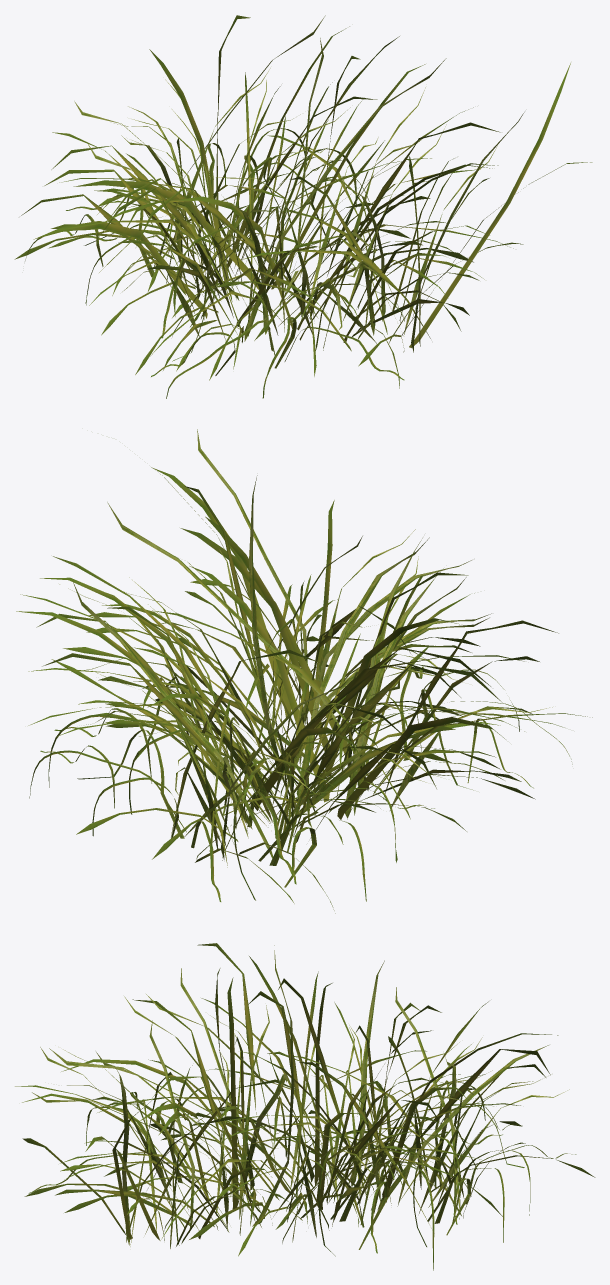
File: snow_grass.glb
3 views of the same model, one above another, from view 1: azimuth 30°, elevation 25°; view 2: azimuth 150°, elevation 25°; view 3: azimuth 270°, elevation 25° (orthographic). The views are drawn at different scales.
Visible parts, largest first — view 1: bq_Grass_Bromus-erectus_A_winter; view 2: bq_Grass_Bromus-erectus_A_winter; view 3: bq_Grass_Bromus-erectus_A_winter.
Part boxes in pixels (<box>): bq_Grass_Bromus-erectus_A_winter: <box>14,15,592,398</box>; bq_Grass_Bromus-erectus_A_winter: <box>16,429,592,913</box>; bq_Grass_Bromus-erectus_A_winter: <box>15,943,595,1270</box>.
Size of the model in its own units: 0.8783 by 0.494 by 0.8837.
Materials: 1 (1 with a texture image).
